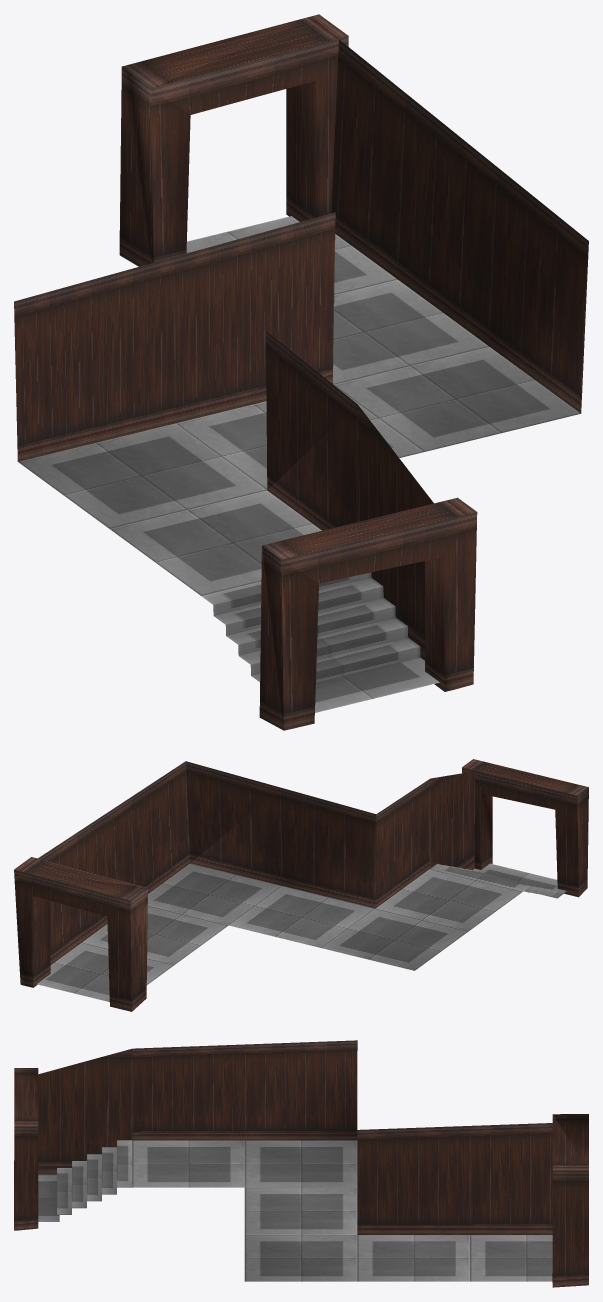
Rendered from hall_1.glb.
3 views of the same model, one above another, from view 1: azimuth 30°, elevation 25°; view 2: azimuth 150°, elevation 25°; view 3: azimuth 270°, elevation 25° (orthographic). The views are drawn at different scales.
Parts seen in each view (by area): view 1: wall, floor, DoorFrame_Connector2, DoorFrame_Connector1, stair; view 2: wall, floor, DoorFrame_Connector2, DoorFrame_Connector1, stair; view 3: wall, floor, DoorFrame_Connector2, DoorFrame_Connector1, stair.
Part boxes in pixels (left/top/right/bottom): wall: left=14, top=20, right=588, bottom=660; floor: left=18, top=216, right=580, bottom=712; DoorFrame_Connector2: left=119, top=14, right=348, bottom=266; DoorFrame_Connector1: left=259, top=497, right=477, bottom=730; stair: left=201, top=572, right=420, bottom=682; wall: left=23, top=761, right=475, bottom=964; floor: left=37, top=863, right=566, bottom=1001; DoorFrame_Connector2: left=14, top=857, right=147, bottom=1011; DoorFrame_Connector1: left=462, top=759, right=588, bottom=897; stair: left=430, top=863, right=557, bottom=896; wall: left=38, top=1040, right=552, bottom=1234; floor: left=38, top=1140, right=552, bottom=1281; DoorFrame_Connector2: left=552, top=1114, right=588, bottom=1287; DoorFrame_Connector1: left=14, top=1068, right=38, bottom=1230; stair: left=57, top=1140, right=131, bottom=1214.
Size of the model in its own units: 47.99 by 22.79 by 76.61.
4 materials, 4 textured.
